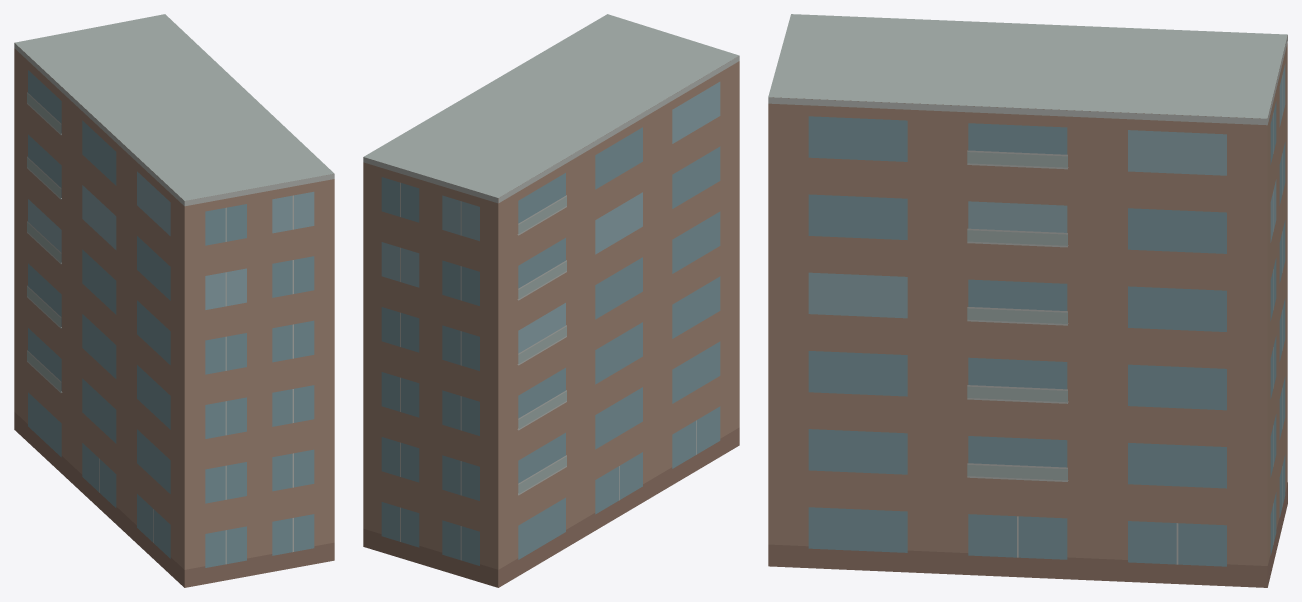
The model's file is survey-upis-32564227.glb.
The picture shows the model from 3 angles, left to right: view 1: azimuth 30°, elevation 25°; view 2: azimuth 150°, elevation 25°; view 3: azimuth 270°, elevation 25°; orthographic projection. The views are drawn at different scales.
Parts seen in each view (by area): view 1: survey-upis-32564227.tmp; view 2: survey-upis-32564227.tmp; view 3: survey-upis-32564227.tmp.
Part boxes in pixels (<box>): survey-upis-32564227.tmp: <box>14,14,334,587</box>; survey-upis-32564227.tmp: <box>363,14,739,587</box>; survey-upis-32564227.tmp: <box>768,14,1287,587</box>.
Size of the model in its own units: 8.49 by 17.7 by 17.78.
